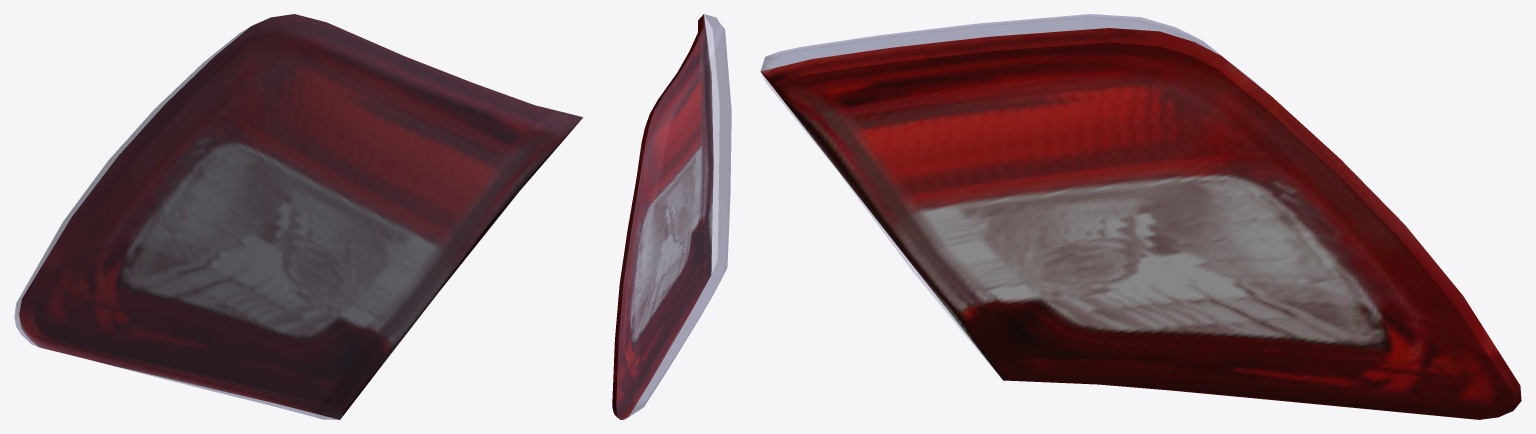
3 views of the same model, side by side, from view 1: azimuth 30°, elevation 25°; view 2: azimuth 150°, elevation 25°; view 3: azimuth 270°, elevation 25° (orthographic). The views are drawn at different scales.
Visible parts, largest first — view 1: Y175_18_541D_R_Y175_18_541D_R_1_DTaSI, Y175_18_541D_R_2_N_Y175_18_541D_R; view 2: Y175_18_541D_R_Y175_18_541D_R_1_DTaSI, Y175_18_541D_R_2_N_Y175_18_541D_R; view 3: Y175_18_541D_R_2_N_Y175_18_541D_R, Y175_18_541D_R_Y175_18_541D_R_1_DTaSI.
Boxes of the visible parts, x1,y1,x2,y2 form: Y175_18_541D_R_Y175_18_541D_R_1_DTaSI: (14, 14, 582, 419); Y175_18_541D_R_2_N_Y175_18_541D_R: (19, 14, 582, 419); Y175_18_541D_R_Y175_18_541D_R_1_DTaSI: (616, 14, 731, 419); Y175_18_541D_R_2_N_Y175_18_541D_R: (612, 14, 713, 419); Y175_18_541D_R_2_N_Y175_18_541D_R: (760, 28, 1521, 419); Y175_18_541D_R_Y175_18_541D_R_1_DTaSI: (760, 14, 1264, 373).
Bounding box in the file's own units: 9.96 × 17.96 × 27.23.
